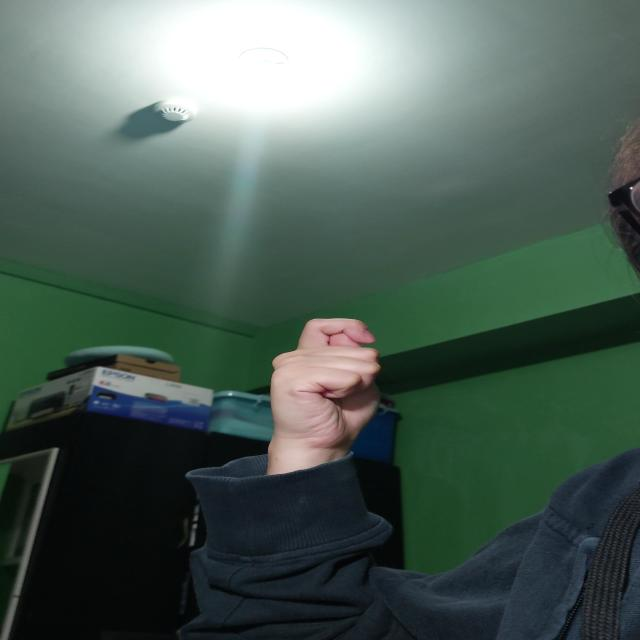T: (270, 318, 382, 448)
